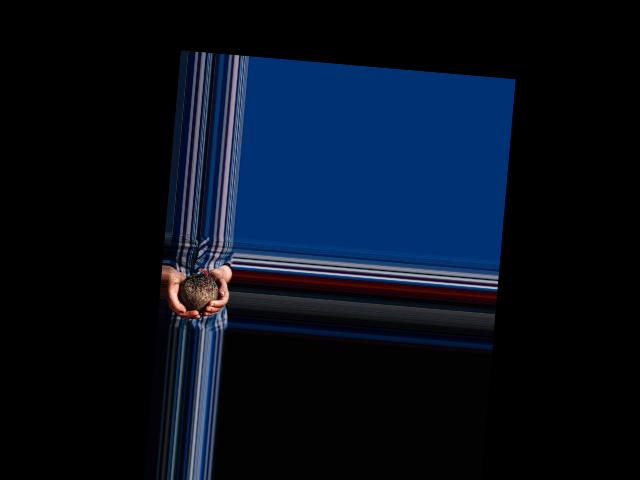beet: (177, 265, 219, 312)
